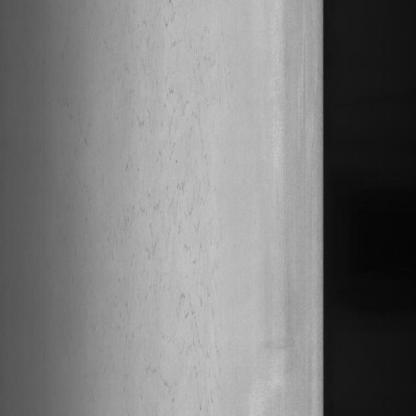silk_spot: (106, 25, 211, 416)
